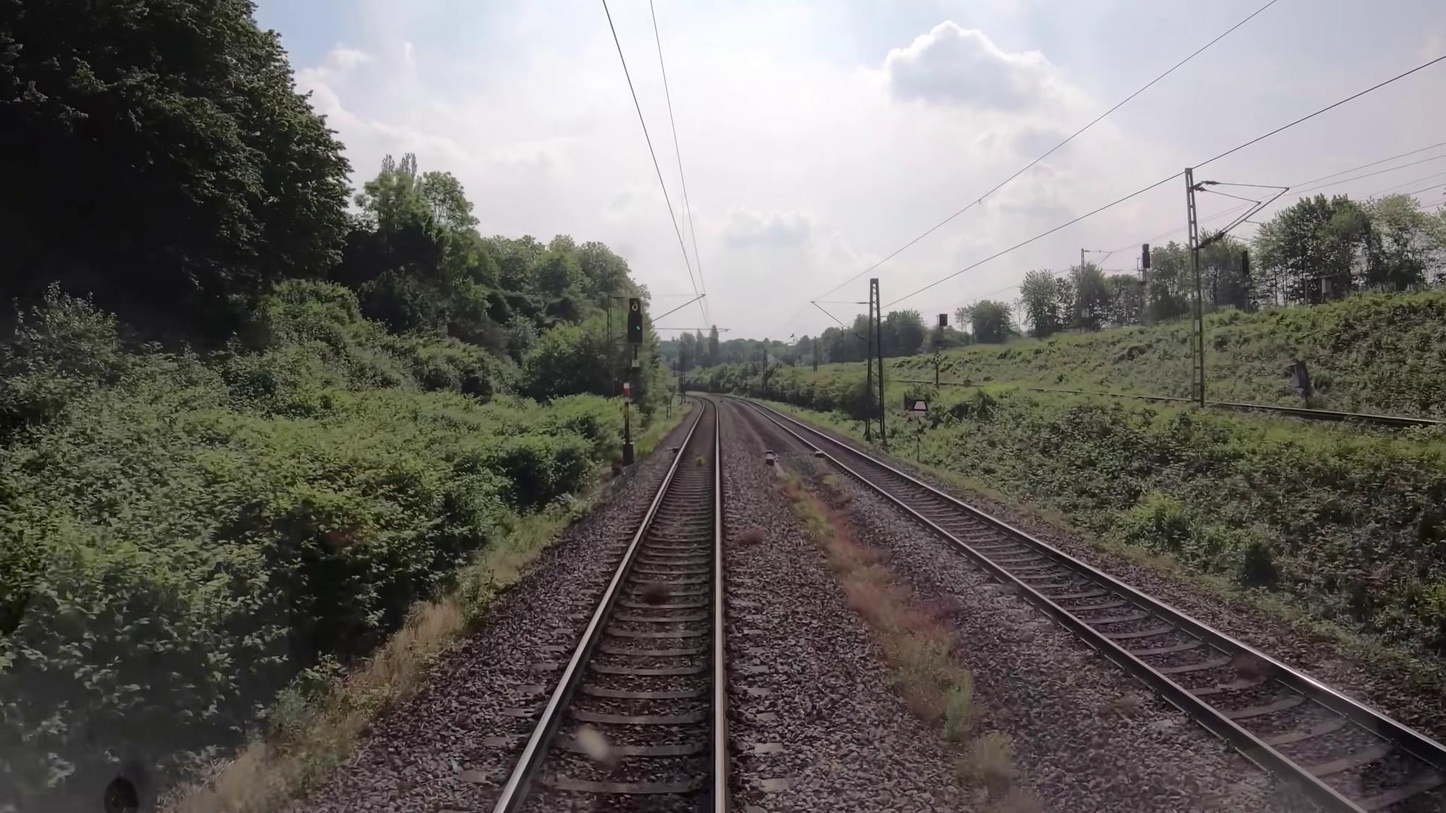Plant: (776, 472, 1057, 809)
